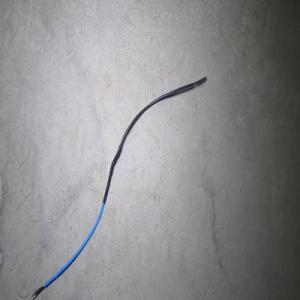Wire: (31, 75, 207, 300)
